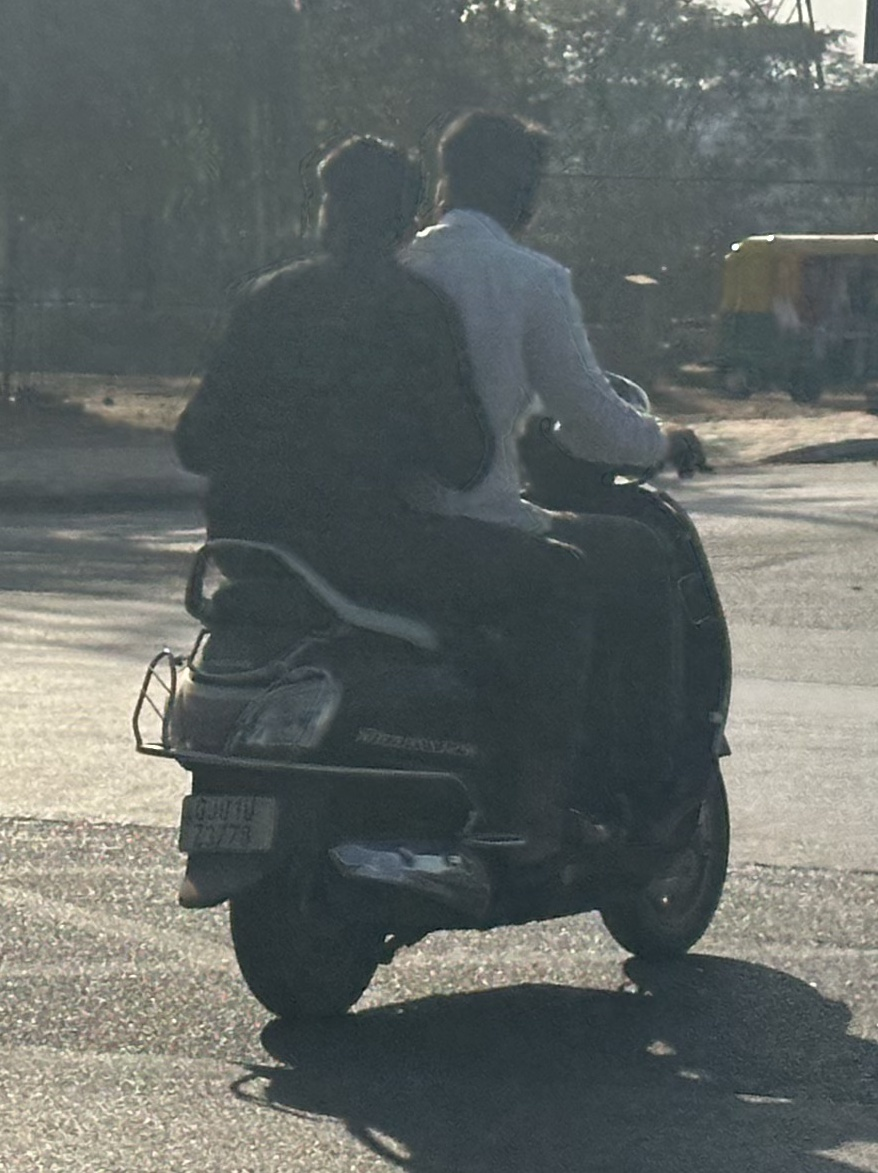BikeWithRider: (116, 89, 753, 1033)
NoHelmet: (421, 97, 567, 246), (301, 124, 436, 270)
